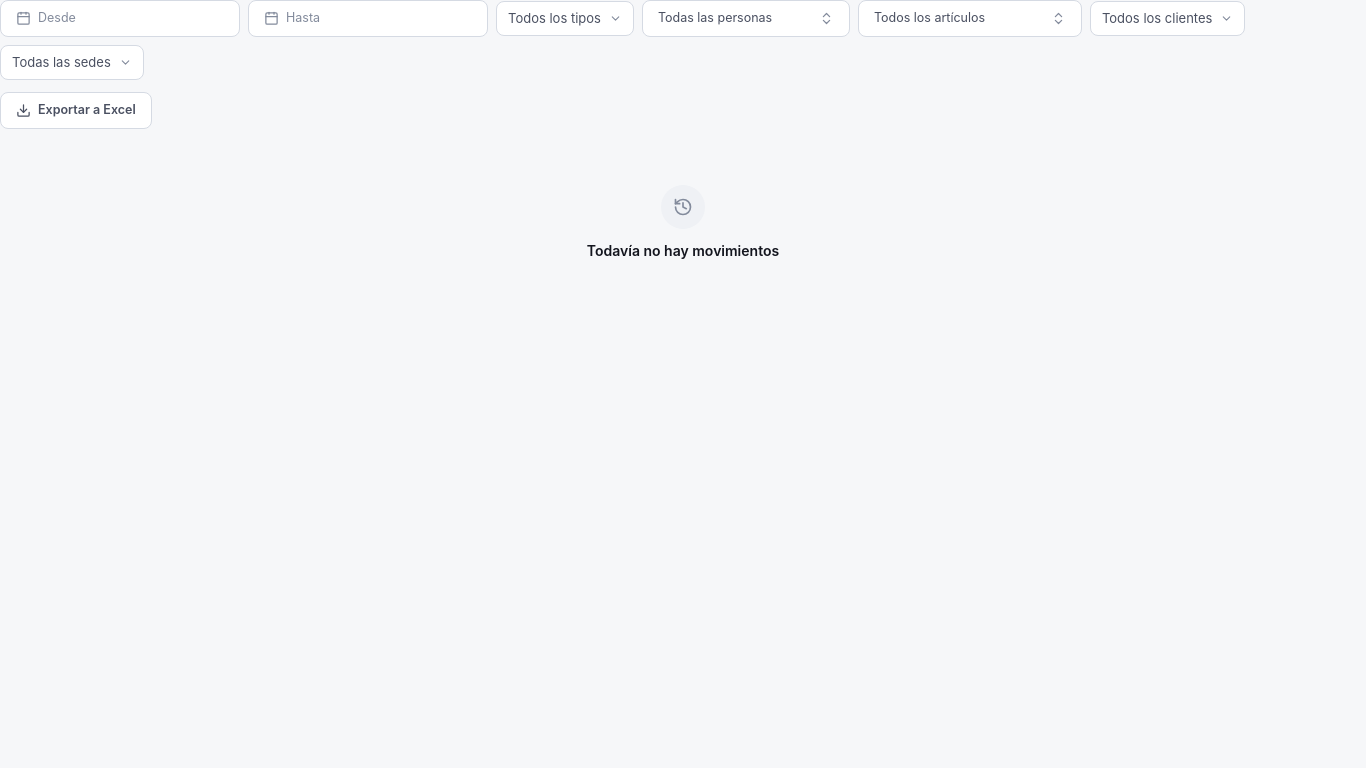
Scenario: MovementsTab: filtros y Excel (IS-18) › al elegir una persona vuelve a pedir los movimientos de esa persona
Click the dropdown named "Filtrar por persona". click: (746, 18)
box: [642,0,850,37]
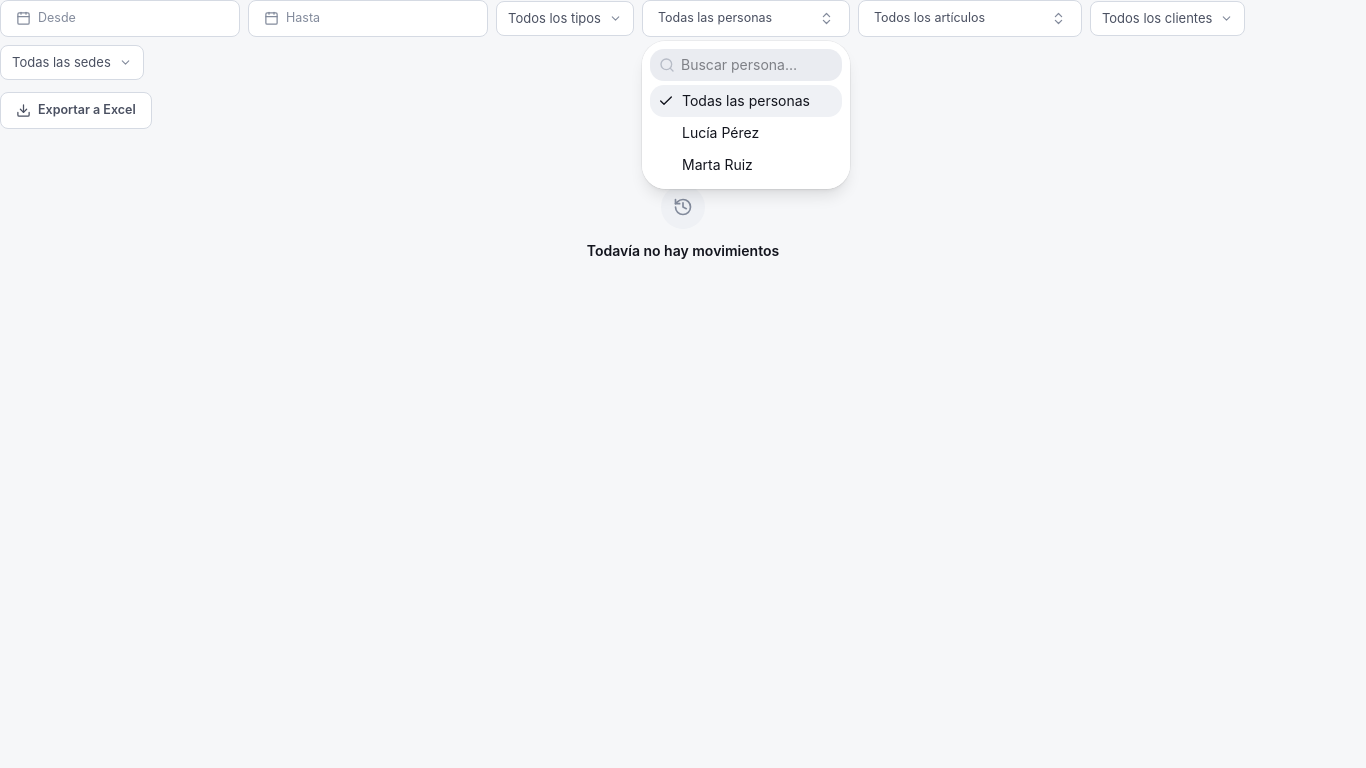
Click the option "Lucía Pérez". click: (721, 132)
box: [682,124,759,141]
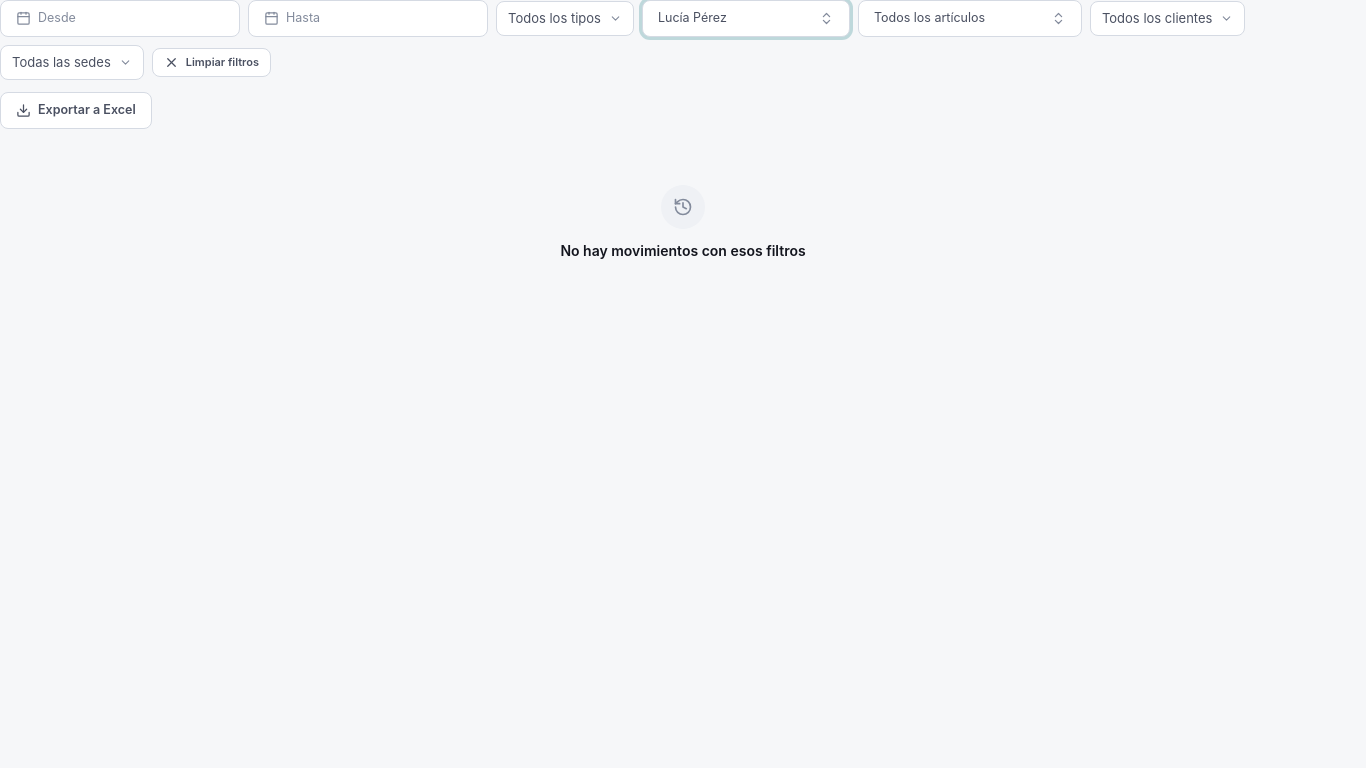
Check: the button "Limpiar filtros" is shown, box [152,48,271,77]
